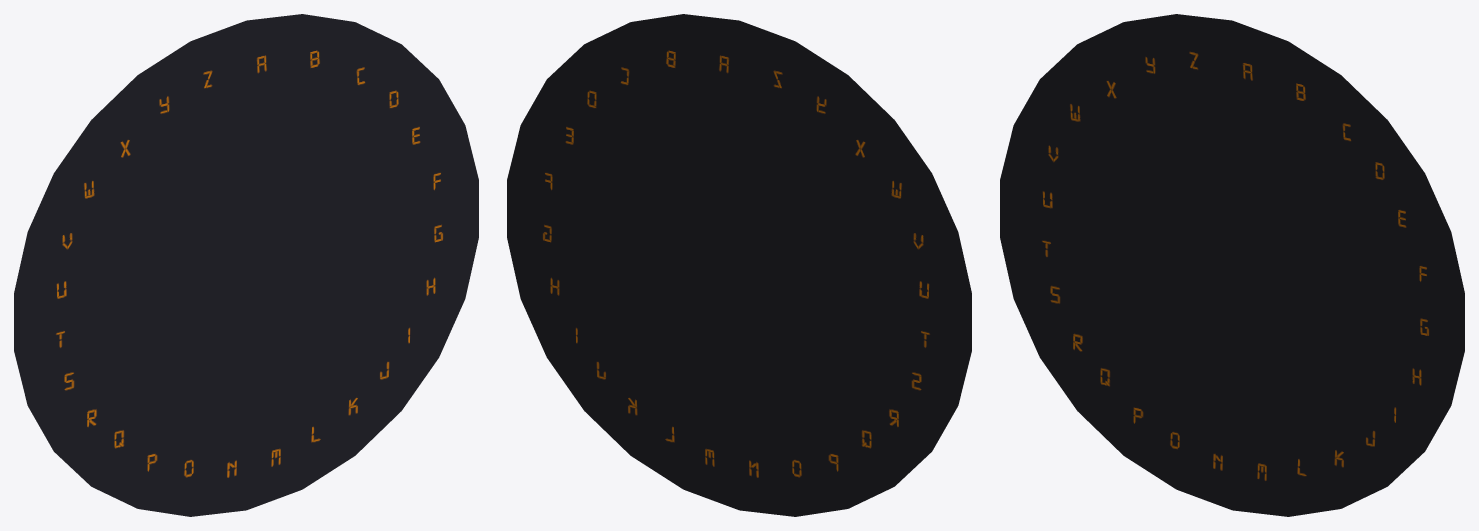
File: SAFE-EDiT.fbx
3 views of the same model, side by side, from view 1: azimuth 30°, elevation 25°; view 2: azimuth 150°, elevation 25°; view 3: azimuth 330°, elevation 25° (orthographic).
Parts seen in each view (by area): view 1: letters; view 2: letters; view 3: letters.
Part boxes in pixels (box(x1,y1,x2,y2)): letters: box(14, 14, 478, 516); letters: box(507, 14, 971, 516); letters: box(1000, 14, 1464, 516).
Size of the model in its own units: 27.91 by 28.11 by 1.78e-15.
1 material, 1 textured.
